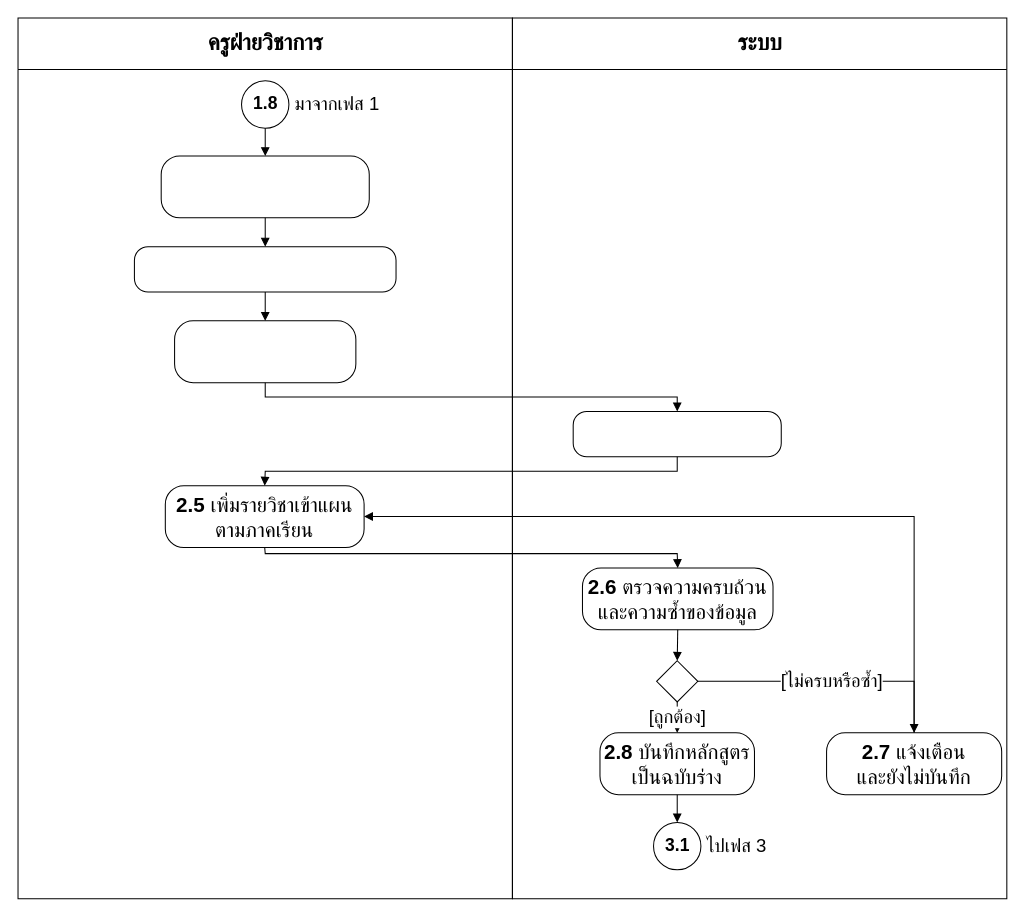
Some shapes in this 1025 by 917 pixel diagram are drawn without their labels. Here are the shapes that lost their labels. From the top down, the centre of each, then its label:
At [264,186]: "2.1 สร้างหลักสูตรใหม่ หรือคัดลอกจากหลักสูตรเดิม".
At [264,269]: "2.2 กรอกชื่อ ปีที่เริ่มใช้ และระดับ".
At [265,351]: "2.3 เพิ่มแผนการเรียน และห้องเรียนของแผน".
At [676,433]: "2.4 แสดงรายวิชาที่เพิ่มได้".
